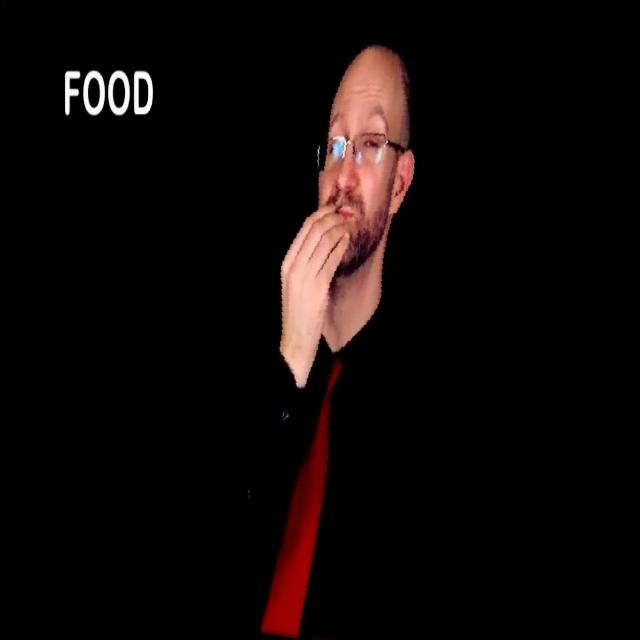Food: (209, 27, 454, 640)
